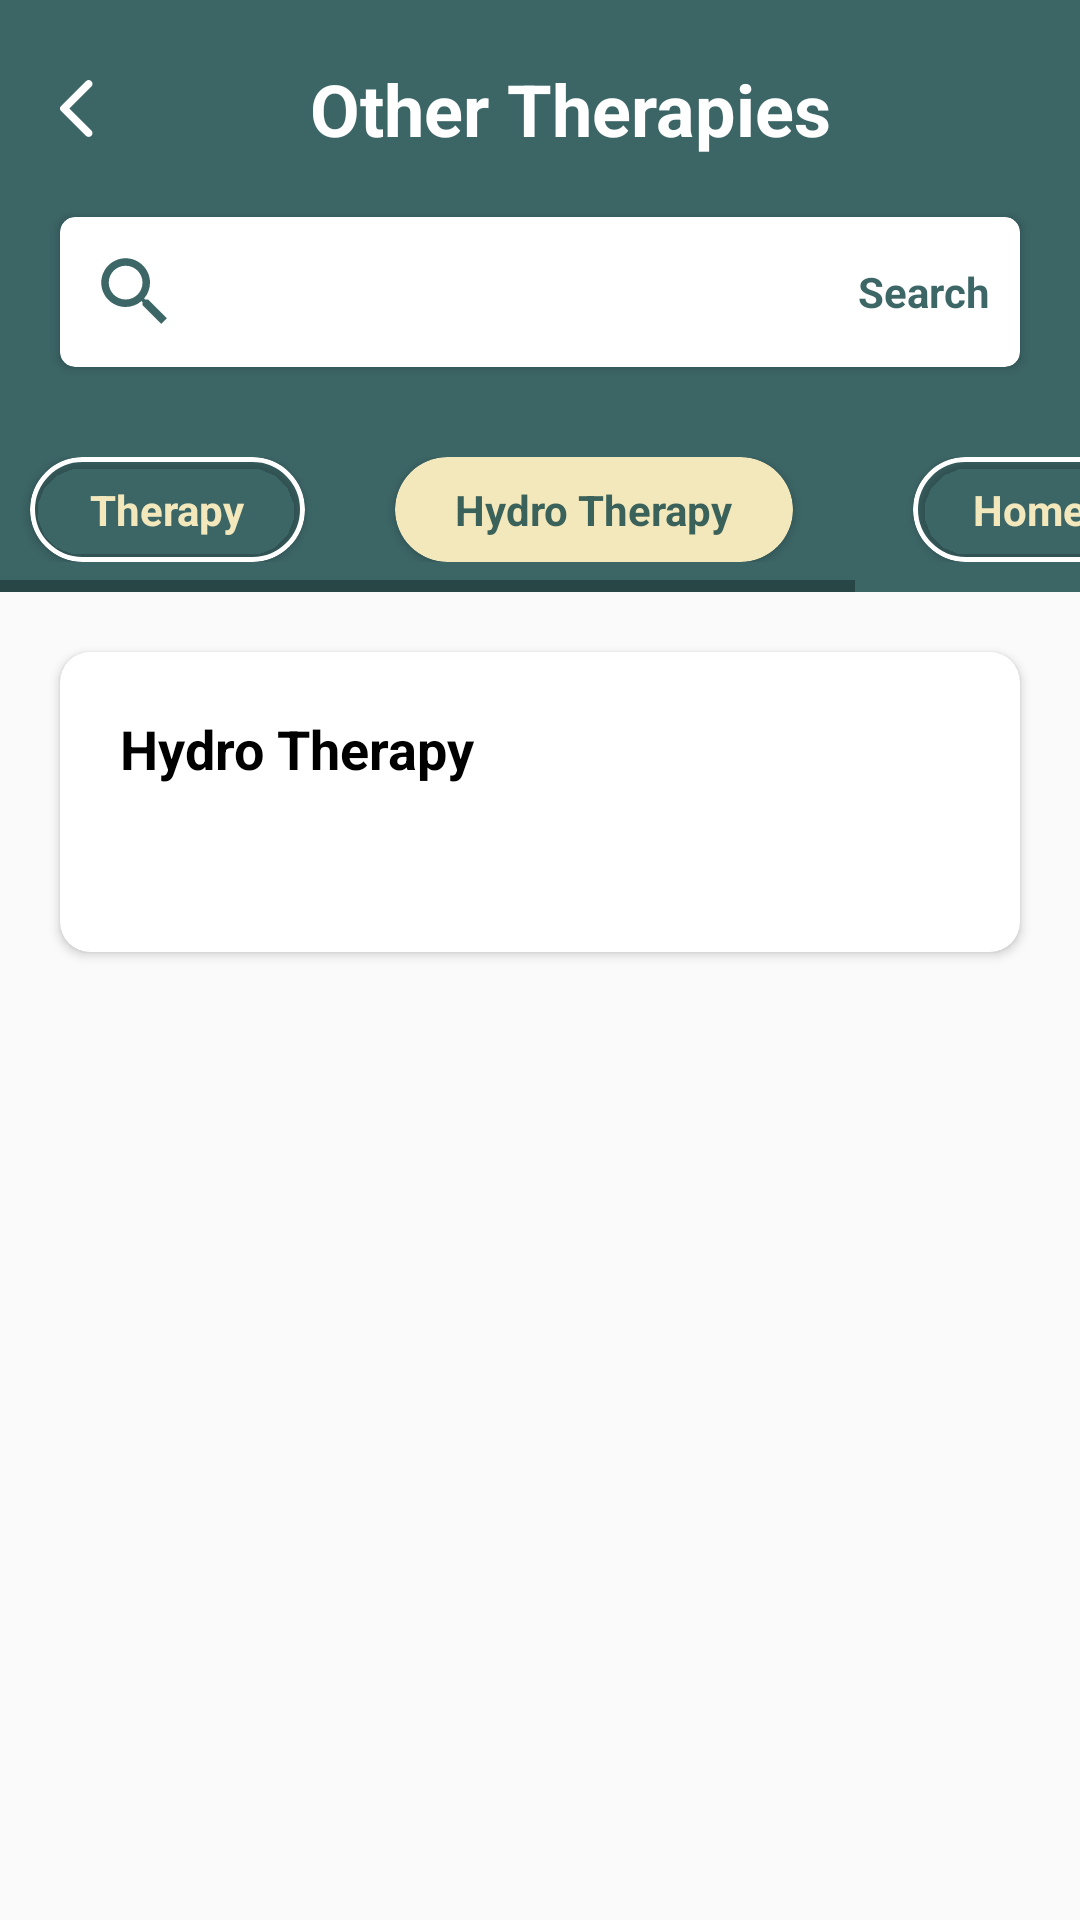

Named icons in this screenshot (1080*1920) and their bounding boxes, (x1, y1, x2, y2):
back: (60, 80, 93, 137)
search: (101, 258, 167, 324)
